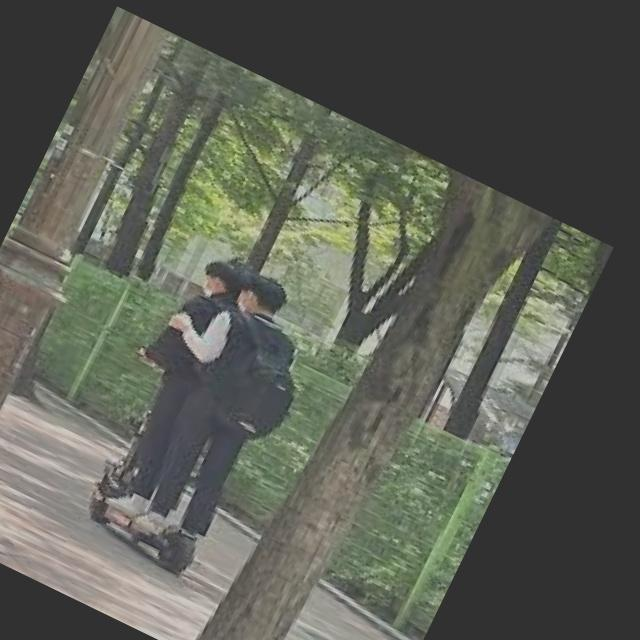bare_head: (227, 268, 288, 321), (193, 256, 239, 303)
human: (130, 270, 294, 532), (100, 257, 237, 510)
kickboard: (86, 463, 198, 579)
